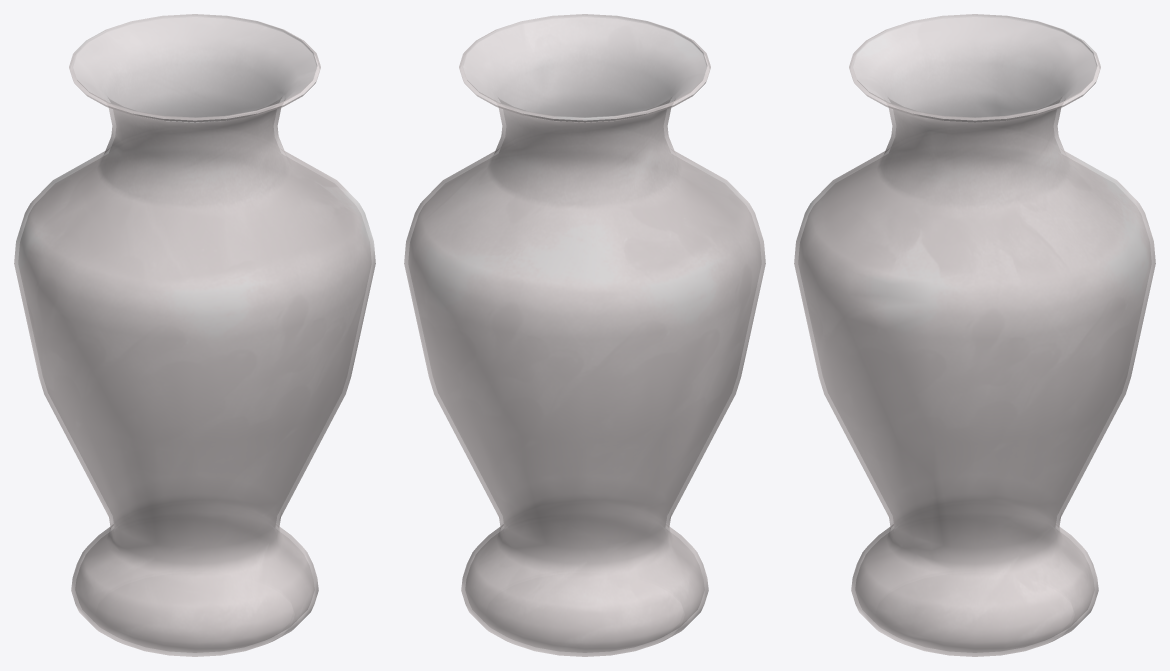
Rendered from vase.glb.
3 views of the same model, side by side, from view 1: azimuth 30°, elevation 25°; view 2: azimuth 150°, elevation 25°; view 3: azimuth 270°, elevation 25° (orthographic).
Visible parts, largest first — view 1: Object_4; view 2: Object_4; view 3: Object_4.
Part boxes in pixels (left/top/right/bottom): Object_4: left=14, top=14, right=375, bottom=656; Object_4: left=404, top=14, right=765, bottom=656; Object_4: left=794, top=14, right=1155, bottom=656.
Bounding box in the file's own units: 1.47 × 2.46 × 1.47.
1 material, 1 textured.
